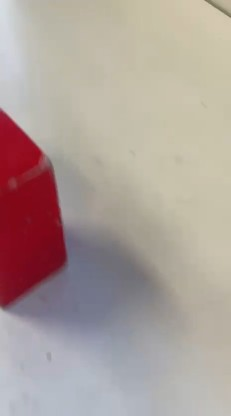red: (0, 99, 121, 272)
